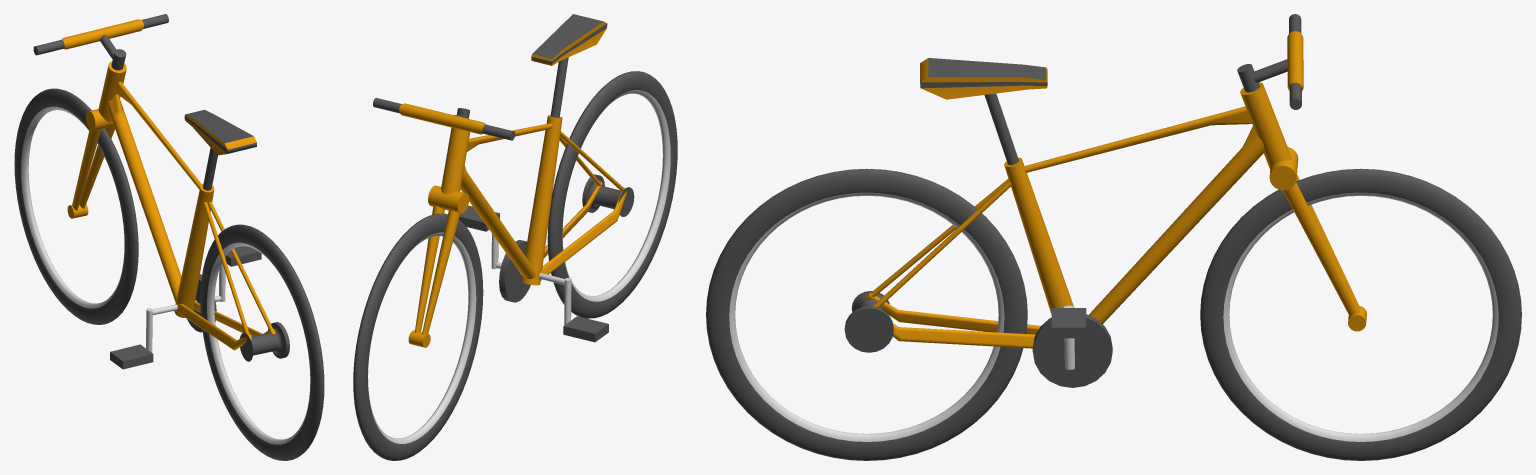
File: Bike-Orange.fbx
3 views of the same model, side by side, from view 1: azimuth 30°, elevation 25°; view 2: azimuth 150°, elevation 25°; view 3: azimuth 270°, elevation 25° (orthographic). The views are drawn at different scales.
Parts seen in each view (by area): view 1: pCylinder24; view 2: pCylinder24; view 3: pCylinder24.
Boxes of the visible parts, <box> form: pCylinder24: <box>14,14,324,460</box>; pCylinder24: <box>353,14,677,460</box>; pCylinder24: <box>706,14,1521,460</box>.
Size of the model in its own units: 38.14 by 81.56 by 149.
